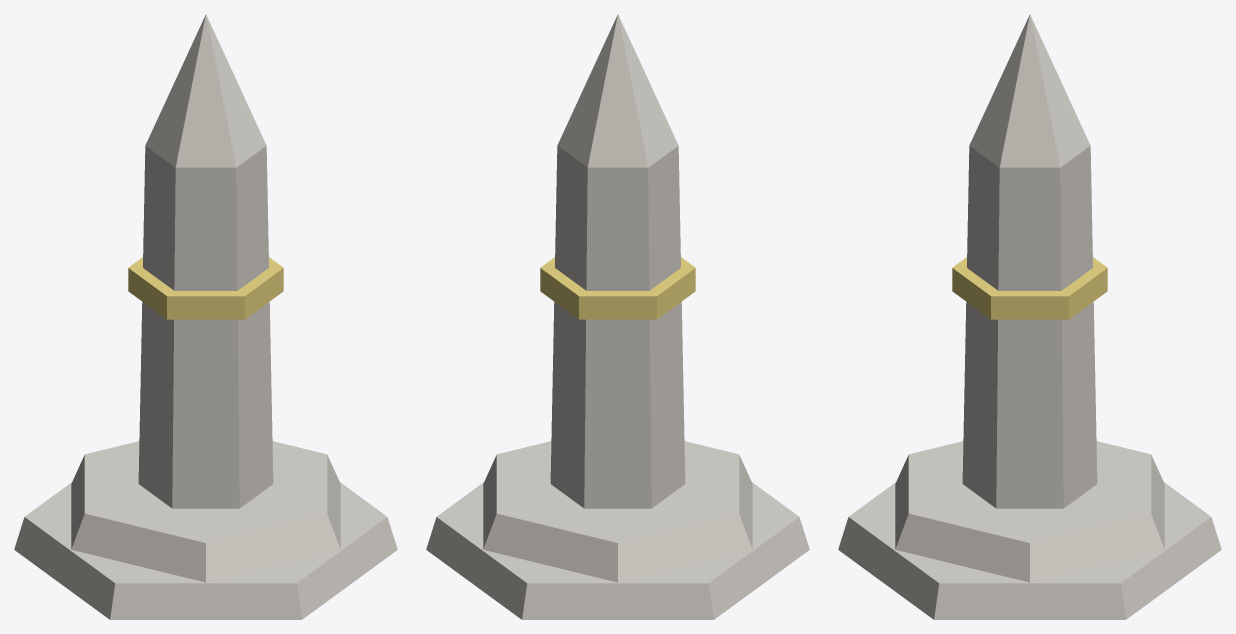
Rendered from Islandia_Alfil.fbx.
3 views of the same model, side by side, from view 1: azimuth 30°, elevation 25°; view 2: azimuth 150°, elevation 25°; view 3: azimuth 270°, elevation 25° (orthographic).
Visible parts, largest first — view 1: Islandia_Alfil; view 2: Islandia_Alfil; view 3: Islandia_Alfil.
Boxes of the visible parts, box(x1,y1,x2,y2) form: Islandia_Alfil: box(14, 14, 397, 619); Islandia_Alfil: box(426, 14, 809, 619); Islandia_Alfil: box(838, 14, 1221, 619).
Bounding box in the file's own units: 0.6409 × 1.14 × 0.74.
